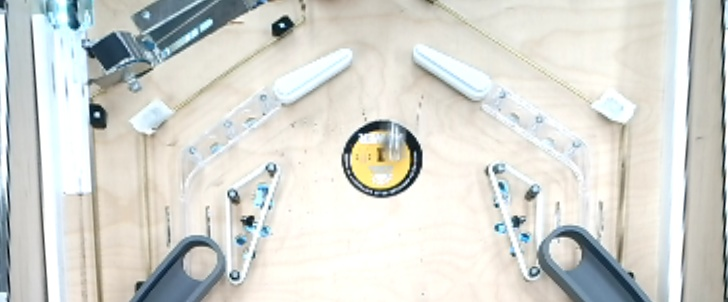ball: (379, 119, 408, 162)
flipper-left: (411, 41, 494, 112)
flipper-right: (269, 43, 358, 112)
